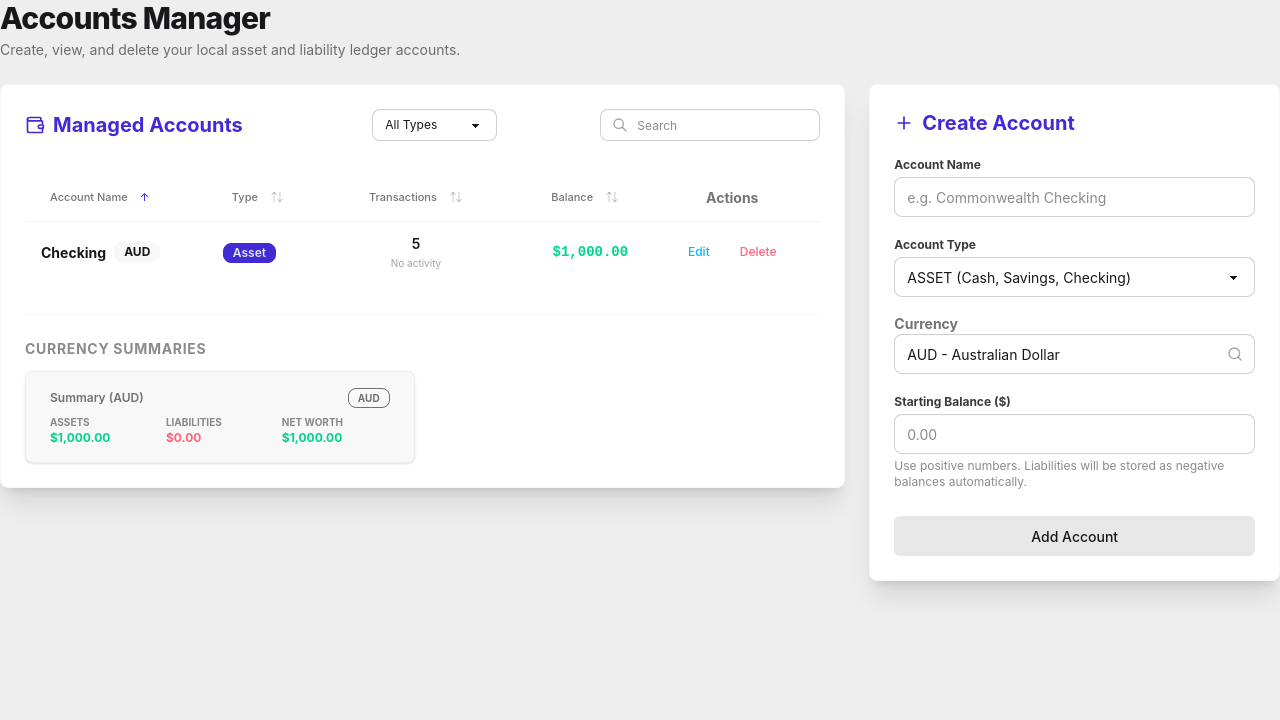
AccountsClient — creating an account › shows duplicate name error toast when updateAccount throws ERR_ACCOUNT_NAME_EXISTS
Click the button with aria-label "Edit Checking": [699, 252] box [675,236,723,268]
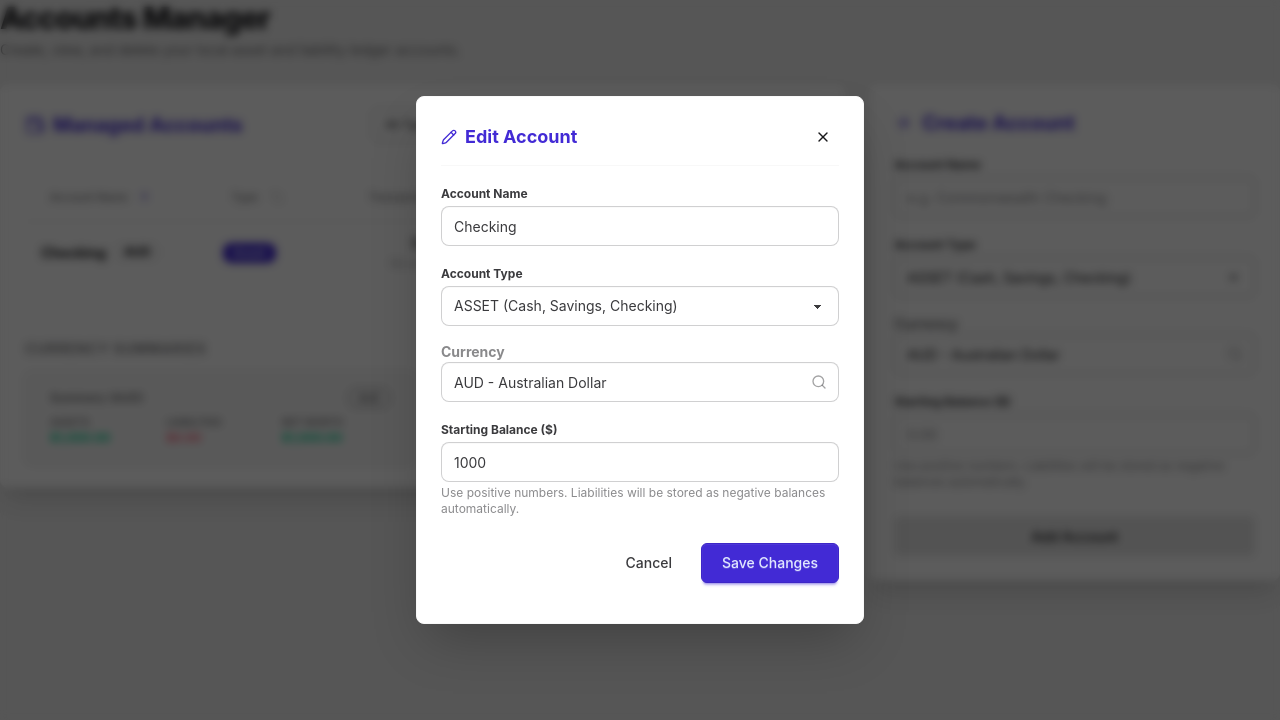
Replace the text in the field showing "Checking" with "Duplicate Name": [640, 226] box [441,206,839,246]
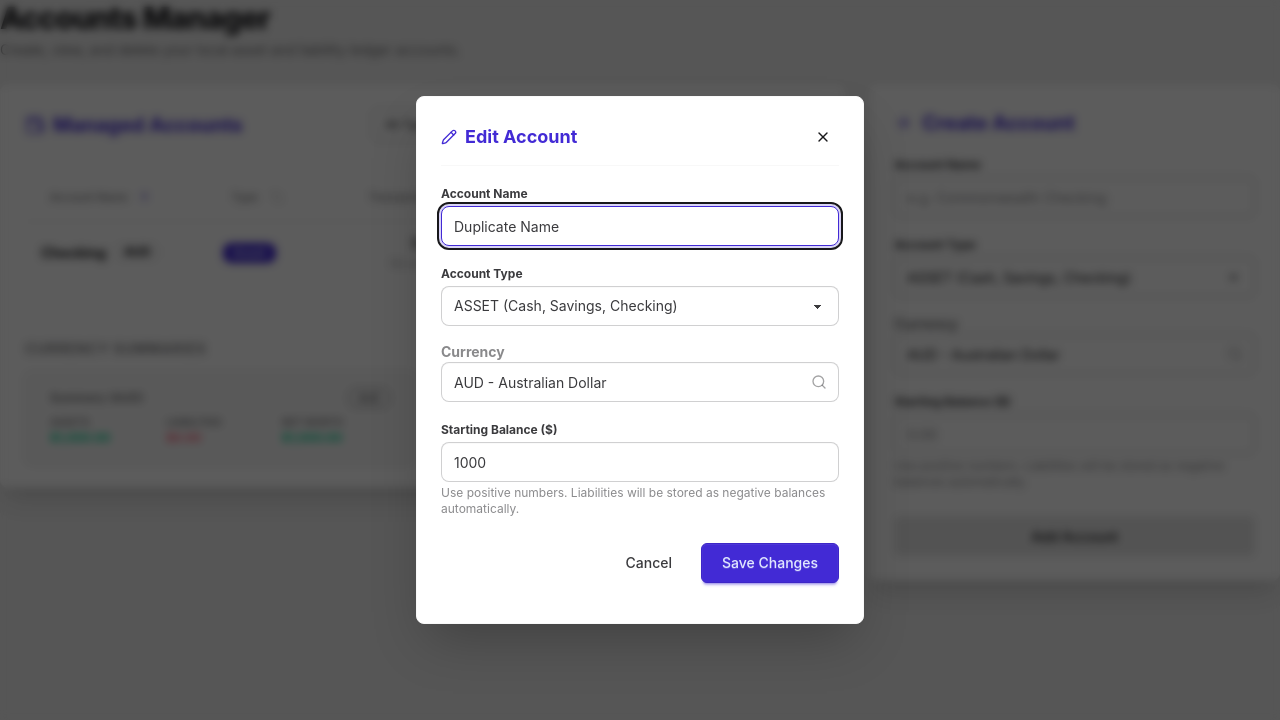
Click the button "Save Changes": [770, 563] box [701,543,839,583]
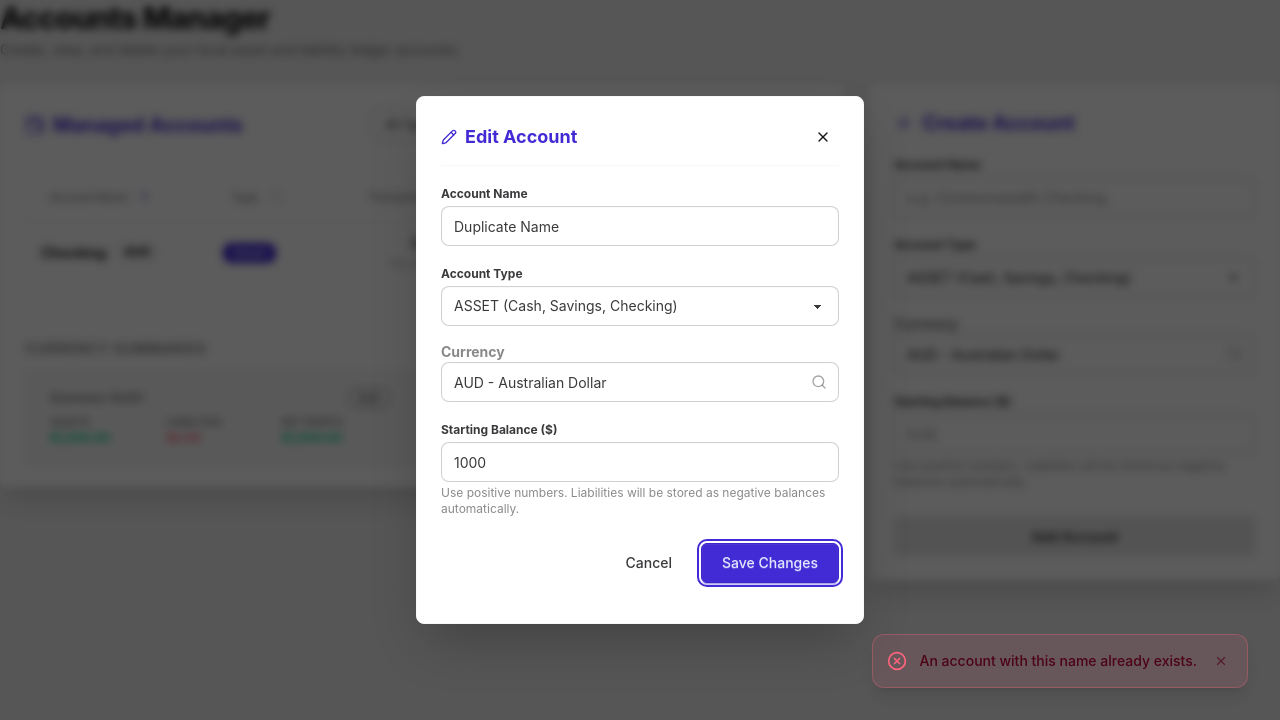
Check: the text "An account with this name already exists." is shown, box [920,651,1197,671]
